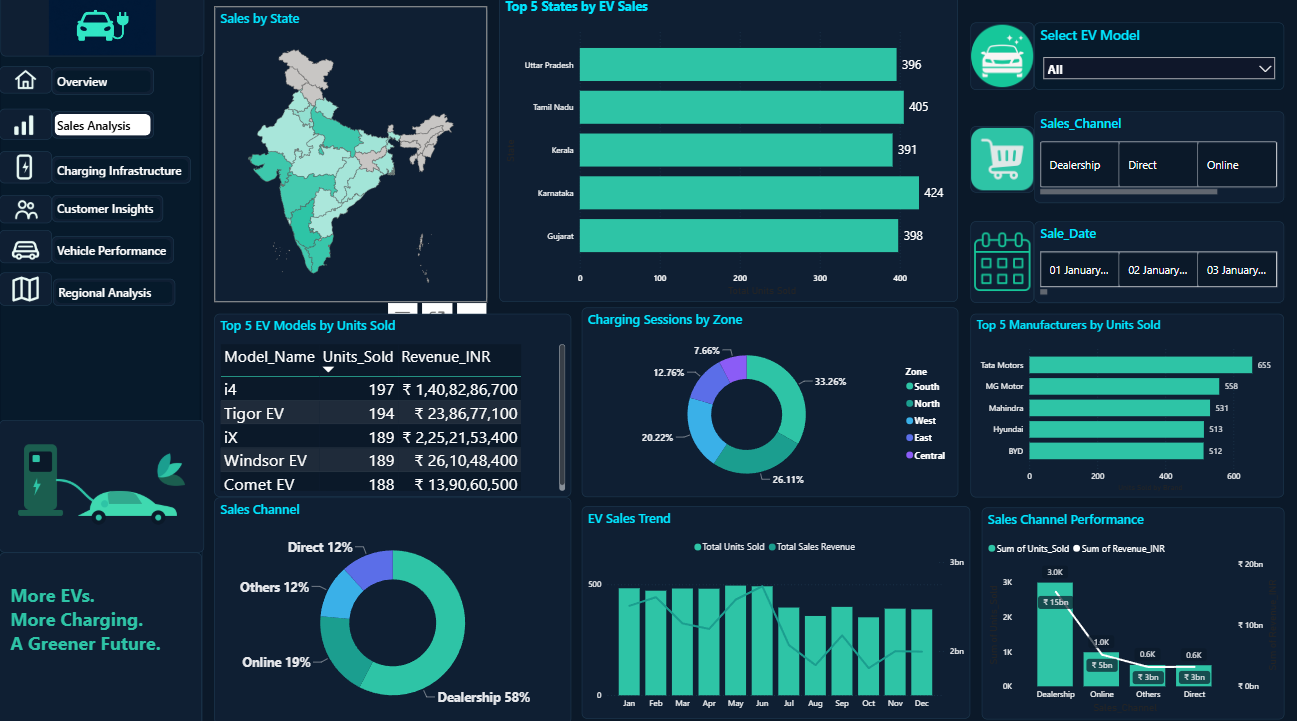

The dashboard page shown, as its layout file describes it:
{"tool":"powerbi","page":{"name":"Sales Analysis","canvas":[1920,1080],"ordinal":1},"visuals":[{"type":"shapeMap","title":"Sales by State","fields":{"Category":["Region.State"],"Value":["Region.Region Sales %"]},"box":[318.1,17.3,402.5,435],"z":0},{"type":"clusteredBarChart","title":"Top 5 States by EV Sales","fields":{"Category":["Region.State"],"Y":["EV_Sales.Total Units Sold"]},"box":[738,0,675.2,452.3],"z":1000},{"type":"donutChart","title":"Sales Channel","fields":{"Category":["EV_Sales.Sales_Channel"],"Y":["Sum(EV_Sales.Units_Sold)"]},"box":[318.4,739.9,525.9,333.3],"z":2000},{"type":"lineClusteredColumnComboChart","title":"EV Sales Trend","fields":{"Category":["DateTable.Month"],"Y":["EV_Sales.Total Units Sold"],"Y2":["EV_Sales.Total Sales Revenue"]},"box":[859.5,752.8,572.4,312.9],"z":3000},{"type":"slicer","title":"Select EV Model","fields":{"Values":["Vehicle_Master.Model_Name"]},"box":[1525.8,40.5,368.1,99.4],"z":4000},{"type":"lineClusteredColumnComboChart","title":"Sales Channel Performance","fields":{"Category":["EV_Sales.Sales_Channel"],"Y":["Sum(EV_Sales.Units_Sold)"],"Y2":["Sum(EV_Sales.Revenue_INR)"]},"box":[1447.8,755.3,445.8,311.6],"z":5000},{"type":"advancedSlicerVisual","fields":{"Values":["EV_Sales.Sales_Channel"]},"box":[1525.8,171.2,368.1,134.4],"z":6000},{"type":"advancedSlicerVisual","fields":{"Values":["EV_Sales.Sale_Date"]},"box":[1525.8,333.1,368.1,119.6],"z":7000},{"type":"image","box":[1431.9,333.1,93.9,119.6],"z":8000},{"type":"image","box":[1431.9,40.5,93.9,99.4],"z":9000},{"type":"image","box":[1431.9,193.3,93.9,97.5],"z":10000},{"type":"shape","box":[0,0,300.8,1079.9],"z":11000},{"type":"image","box":[1.8,625.8,301.8,195.1],"z":12000},{"type":"textbox","box":[1.8,820.9,298.2,259.5],"z":13000},{"type":"clusteredBarChart","title":"Top 5 Manufacturers by Units Sold","fields":{"Category":["Manufacturer_Map.Brand_Name"],"Y":["EV_Sales.Units Sold by Brand"]},"box":[1431.9,469.3,462,270.6],"z":14000},{"type":"donutChart","title":"Charging Sessions by Zone","fields":{"Category":["Region.Zone"],"Y":["Sum(Charging_Usage.Sessions)"]},"box":[859.2,461,554,279.2],"z":15000},{"type":"tableEx","title":"Top 5 EV Models by Units Sold","fields":{"Values":["Vehicle_Master.Model_Name","Sum(EV_Sales.Units_Sold)","Sum(EV_Sales.Revenue_INR)"]},"box":[317.7,469.9,525.9,269.6],"z":16000},{"type":"image","box":[3.7,0,300,90.2],"z":17000},{"type":"image","box":[1.8,105,77.8,39.8],"z":18000},{"type":"image","box":[1.8,168.3,77.8,45.2],"z":19000},{"type":"image","box":[1.8,229.8,77.8,47.1],"z":20000},{"type":"image","box":[1.8,295,77.8,41.6],"z":21000},{"type":"image","box":[1.8,345.6,77.8,48.9],"z":22000},{"type":"image","box":[1.8,409,77.8,48.9],"z":23000},{"type":"actionButton","box":[79.6,106.8,150,40],"z":24000},{"type":"actionButton","box":[79.6,171.9,150,40],"z":25000},{"type":"actionButton","box":[79.6,237.1,205.1,39.8],"z":26000},{"type":"actionButton","box":[79.6,295,164.1,39.8],"z":27000},{"type":"actionButton","box":[79.6,354.7,179.8,39.8],"z":28000},{"type":"actionButton","box":[81.4,418,179.8,39.8],"z":29000}]}

Visuals, with their boxes on the page's 1920x1080 design canvas (x1, y1, x2, y2). These are canvas units, not pixel positions in the 1297x721 screenshot, which may show the page scaled, cropped or inside an application window:
"Sales by State" shapeMap: {"left": 318, "top": 17, "right": 721, "bottom": 452}
"Top 5 States by EV Sales" clusteredBarChart: {"left": 738, "top": 0, "right": 1413, "bottom": 452}
"Sales Channel" donutChart: {"left": 318, "top": 740, "right": 844, "bottom": 1073}
"EV Sales Trend" lineClusteredColumnComboChart: {"left": 860, "top": 753, "right": 1432, "bottom": 1066}
"Select EV Model" slicer: {"left": 1526, "top": 40, "right": 1894, "bottom": 140}
"Sales Channel Performance" lineClusteredColumnComboChart: {"left": 1448, "top": 755, "right": 1894, "bottom": 1067}
advancedSlicerVisual - EV_Sales.Sales_Channel: {"left": 1526, "top": 171, "right": 1894, "bottom": 306}
advancedSlicerVisual - EV_Sales.Sale_Date: {"left": 1526, "top": 333, "right": 1894, "bottom": 453}
image: {"left": 1432, "top": 333, "right": 1526, "bottom": 453}
image: {"left": 1432, "top": 40, "right": 1526, "bottom": 140}
image: {"left": 1432, "top": 193, "right": 1526, "bottom": 291}
shape: {"left": 0, "top": 0, "right": 301, "bottom": 1080}
image: {"left": 2, "top": 626, "right": 304, "bottom": 821}
textbox: {"left": 2, "top": 821, "right": 300, "bottom": 1080}
"Top 5 Manufacturers by Units Sold" clusteredBarChart: {"left": 1432, "top": 469, "right": 1894, "bottom": 740}
"Charging Sessions by Zone" donutChart: {"left": 859, "top": 461, "right": 1413, "bottom": 740}
"Top 5 EV Models by Units Sold" tableEx: {"left": 318, "top": 470, "right": 844, "bottom": 740}
image: {"left": 4, "top": 0, "right": 304, "bottom": 90}
image: {"left": 2, "top": 105, "right": 80, "bottom": 145}
image: {"left": 2, "top": 168, "right": 80, "bottom": 214}
image: {"left": 2, "top": 230, "right": 80, "bottom": 277}
image: {"left": 2, "top": 295, "right": 80, "bottom": 337}
image: {"left": 2, "top": 346, "right": 80, "bottom": 394}
image: {"left": 2, "top": 409, "right": 80, "bottom": 458}
actionButton: {"left": 80, "top": 107, "right": 230, "bottom": 147}
actionButton: {"left": 80, "top": 172, "right": 230, "bottom": 212}
actionButton: {"left": 80, "top": 237, "right": 285, "bottom": 277}
actionButton: {"left": 80, "top": 295, "right": 244, "bottom": 335}
actionButton: {"left": 80, "top": 355, "right": 259, "bottom": 394}
actionButton: {"left": 81, "top": 418, "right": 261, "bottom": 458}
